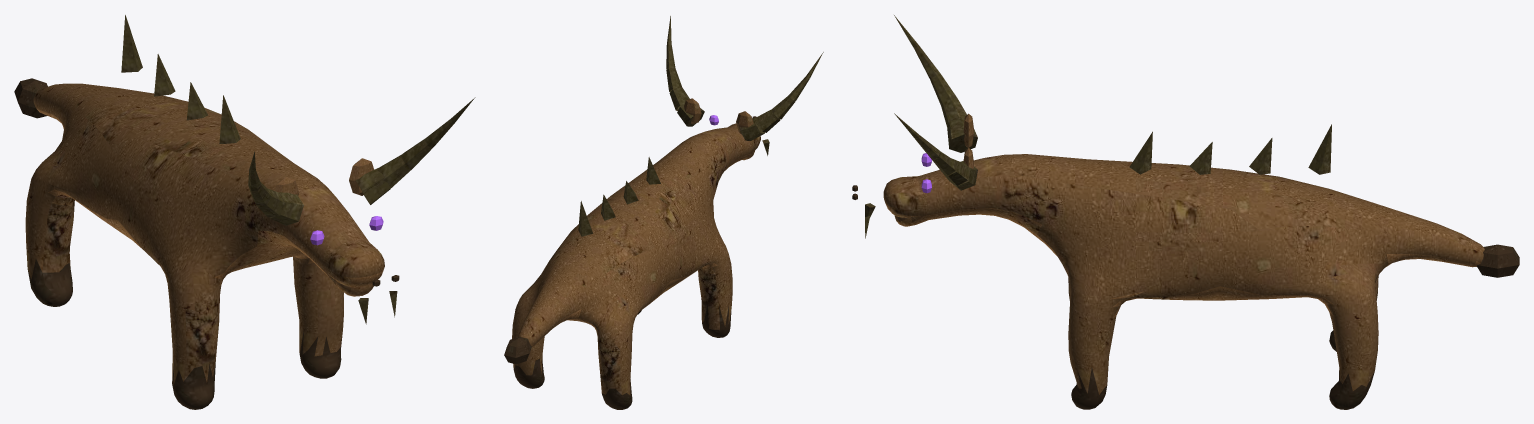
Rendered from mon_quad_04.glb.
The picture shows the model from 3 angles, left to right: view 1: azimuth 30°, elevation 25°; view 2: azimuth 150°, elevation 25°; view 3: azimuth 270°, elevation 25°; orthographic projection. The views are drawn at different scales.
Parts seen in each view (by area): view 1: mon_quad_04; view 2: mon_quad_04; view 3: mon_quad_04.
Boxes of the visible parts, <box> form: mon_quad_04: <box>14,15,475,409</box>; mon_quad_04: <box>504,16,823,409</box>; mon_quad_04: <box>852,15,1519,409</box>.
Size of the model in its own units: 0.5527 by 0.8277 by 1.58.
5 materials, 4 textured.
